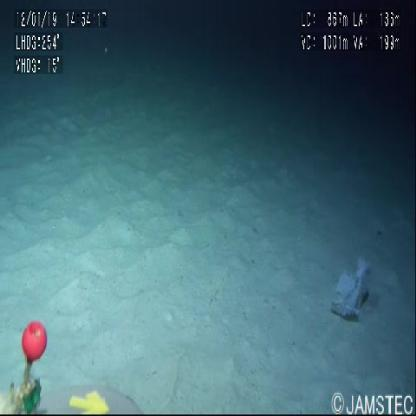Rác: (331, 261, 369, 321)
